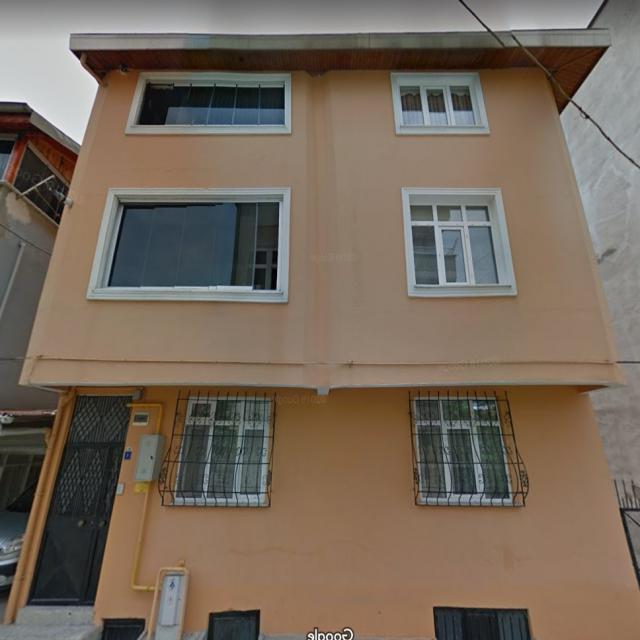Building: (0, 29, 640, 640)
